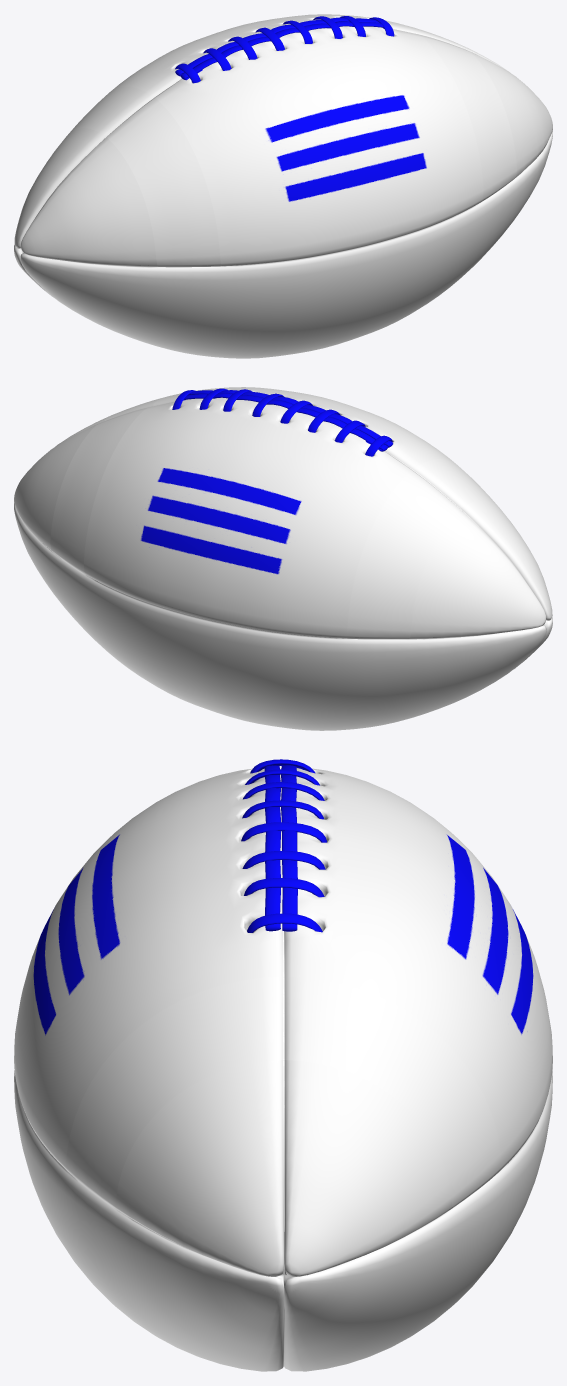
Rendered from hugescale.fbx.
3 views of the same model, one above another, from view 1: azimuth 30°, elevation 25°; view 2: azimuth 150°, elevation 25°; view 3: azimuth 270°, elevation 25° (orthographic). The views are drawn at different scales.
Visible parts, largest first — view 1: Ball_Sphere, Lace_big_1_CUPlane_002, Lace_big_2_CUPlane_000; view 2: Ball_Sphere, Lace_big_2_CUPlane_000, Lace_big_1_CUPlane_002; view 3: Ball_Sphere, Lace_big_2_CUPlane_000, Lace_big_1_CUPlane_002, Lace__small_2_CUPlane_001, Lace__small_4_CUPlane, Lace_small_3_CUPlane_004, Lace__small_1_CUPlane_003.
Boxes of the visible parts, box(x1,y1,x2,y2) form: Ball_Sphere: box(14, 14, 552, 358); Lace_big_1_CUPlane_002: box(180, 21, 384, 80); Lace_big_2_CUPlane_000: box(175, 17, 379, 76); Ball_Sphere: box(14, 387, 552, 730); Lace_big_2_CUPlane_000: box(183, 393, 388, 451); Lace_big_1_CUPlane_002: box(188, 390, 393, 447); Ball_Sphere: box(14, 768, 552, 1371); Lace_big_2_CUPlane_000: box(281, 765, 297, 931); Lace_big_1_CUPlane_002: box(264, 765, 281, 931); Lace__small_2_CUPlane_001: box(244, 878, 324, 897); Lace__small_4_CUPlane: box(241, 822, 326, 842); Lace_small_3_CUPlane_004: box(242, 850, 325, 869); Lace__small_1_CUPlane_003: box(247, 913, 322, 932).
Size of the model in its own units: 2646 by 1475 by 1438.
Materials: 2 (1 with a texture image).
